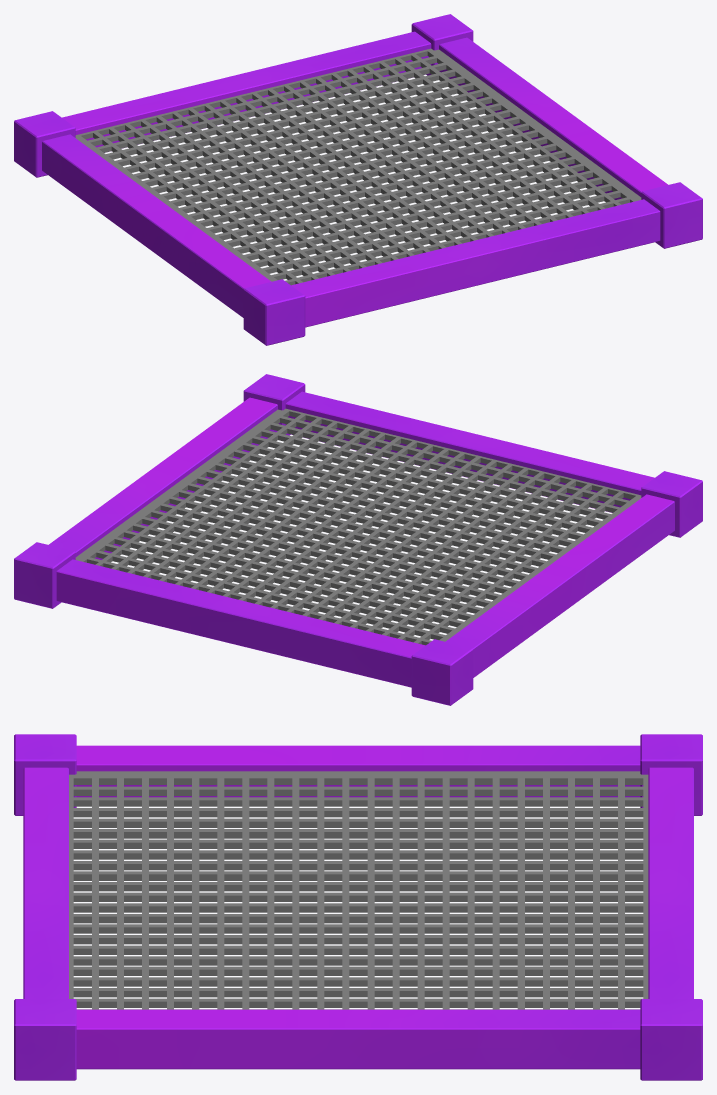
File: SquareBridgePink.fbx
The picture shows the model from 3 angles, top to bottom: view 1: azimuth 30°, elevation 25°; view 2: azimuth 150°, elevation 25°; view 3: azimuth 270°, elevation 25°; orthographic projection. The views are drawn at different scales.
Visible parts, largest first — view 1: Grate.001, Cube.001; view 2: Grate.001, Cube.001; view 3: Grate.001, Cube.001.
Boxes of the visible parts, box(x1,y1,x2,y2) form: Grate.001: box(75, 48, 641, 285); Cube.001: box(14, 14, 702, 345); Grate.001: box(75, 408, 641, 645); Cube.001: box(14, 374, 702, 705); Grate.001: box(69, 771, 648, 1009); Cube.001: box(14, 734, 702, 1080).
Bounding box in the file's own units: 11 × 1 × 11.
